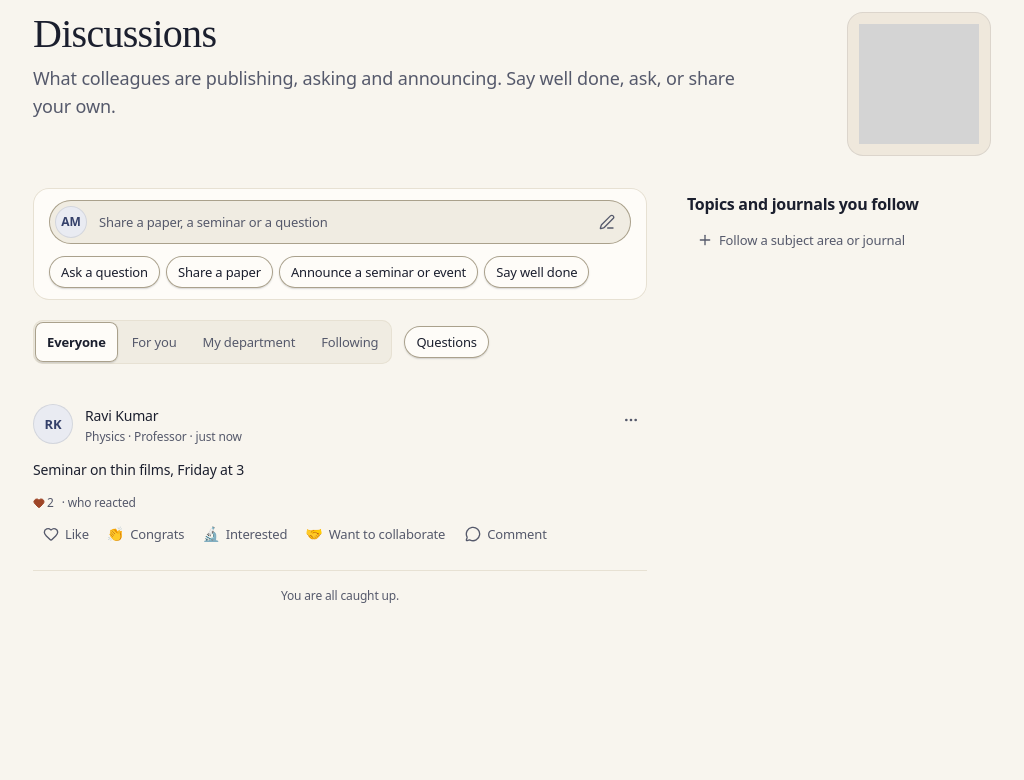
Test: Feed › counts a like at once
The image size is (1024, 780).
Step 1. Click the button "Like" → click(65, 534), box [33, 518, 97, 550]
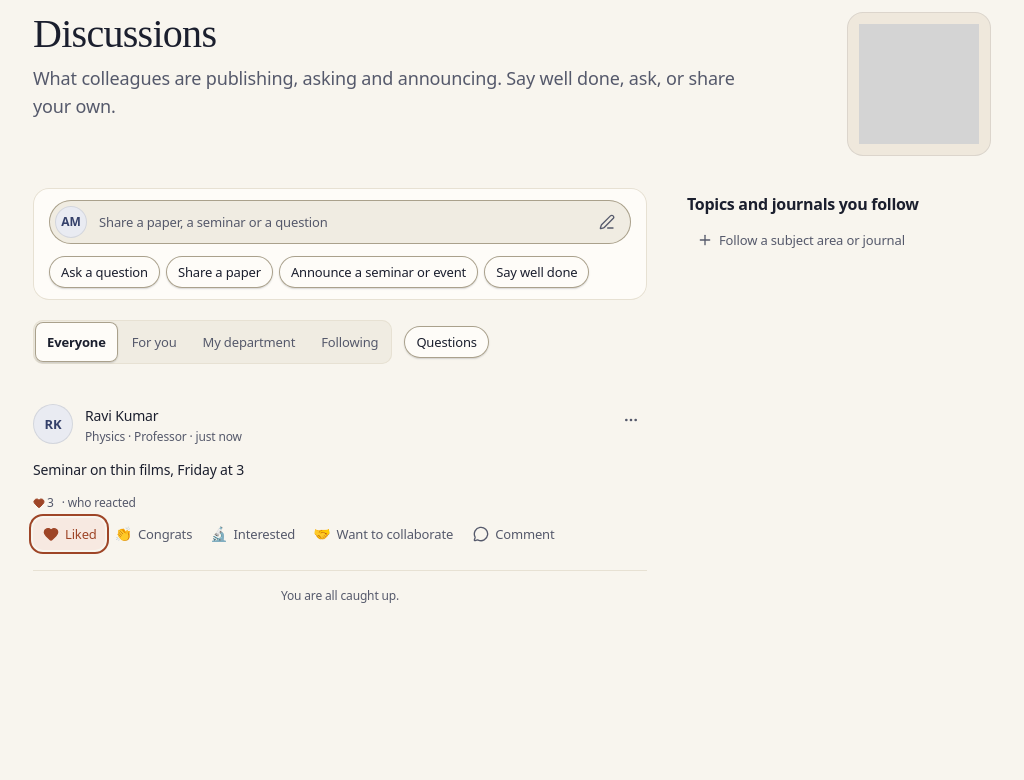
Expected: the text "3" is shown, [33, 494, 54, 512]
